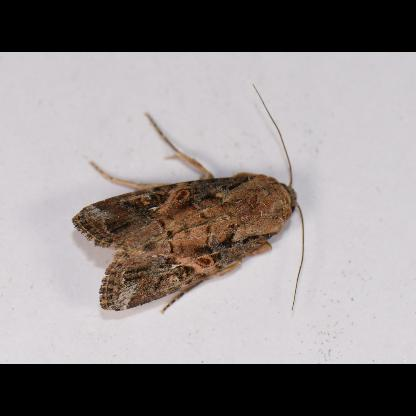Fall Armyworm Moth: (70, 82, 308, 316)
